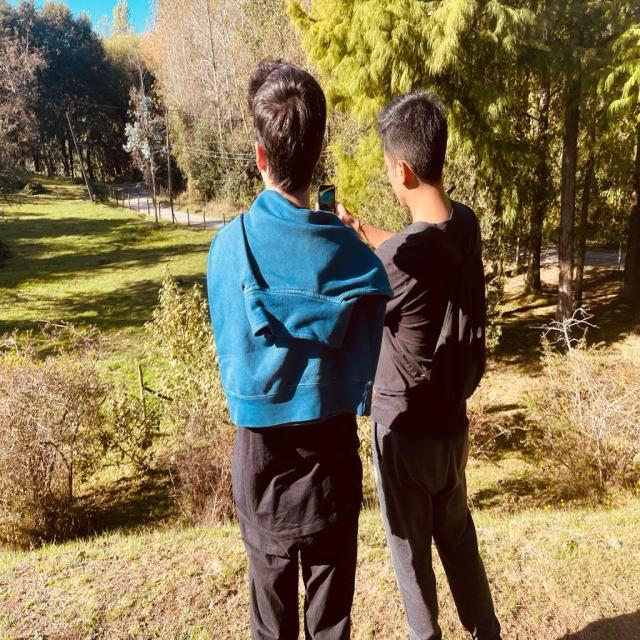person: (193, 52, 381, 640), (356, 86, 524, 636)
